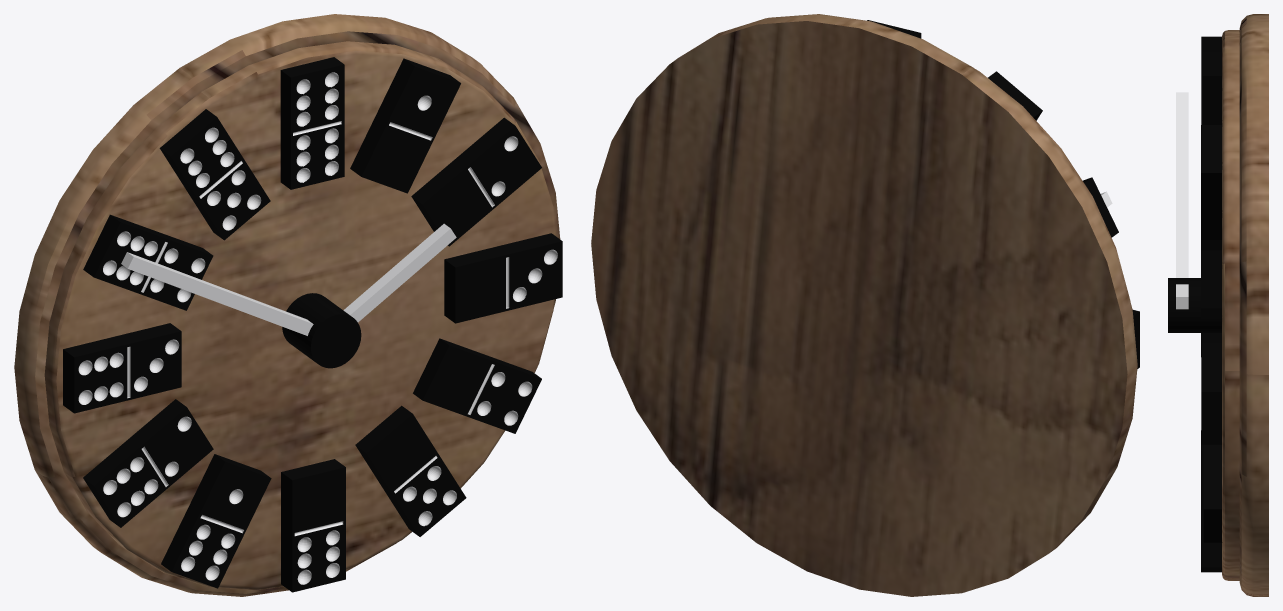
File: Domino_Wall_Clock.fbx
3 renders of one model, left to right at view 1: azimuth 30°, elevation 25°; view 2: azimuth 150°, elevation 25°; view 3: azimuth 270°, elevation 25°, orthographic. The views are drawn at different scales.
Visible parts, largest first — view 1: Domino_Clock; view 2: Domino_Clock; view 3: Domino_Clock.
Part boxes in pixels (x1,y1,x2,y2): Domino_Clock: [14, 14, 562, 596]; Domino_Clock: [591, 14, 1139, 596]; Domino_Clock: [1168, 14, 1268, 596].
Bounding box in the file's own units: 25.4 × 25.4 × 4.4.
